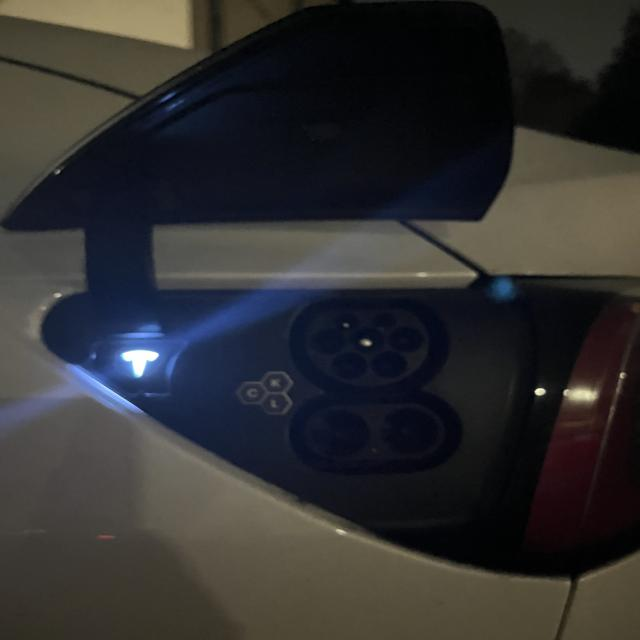inlet: (304, 307, 430, 386)
inlet-above-left: (332, 311, 359, 330)
inlet-above-right: (370, 312, 397, 328)
inlet-below-left: (332, 352, 367, 378)
inlet-below-right: (372, 352, 407, 377)
inlet-circle: (350, 327, 383, 353)
inlet-circle-left: (309, 327, 346, 354)
inlet-circle-right: (388, 326, 423, 351)
inlet-minus: (381, 408, 437, 453)
inlet-plus: (311, 409, 370, 454)
